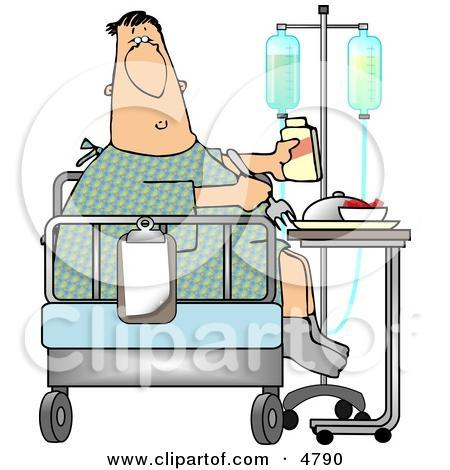person: (39, 8, 353, 379)
